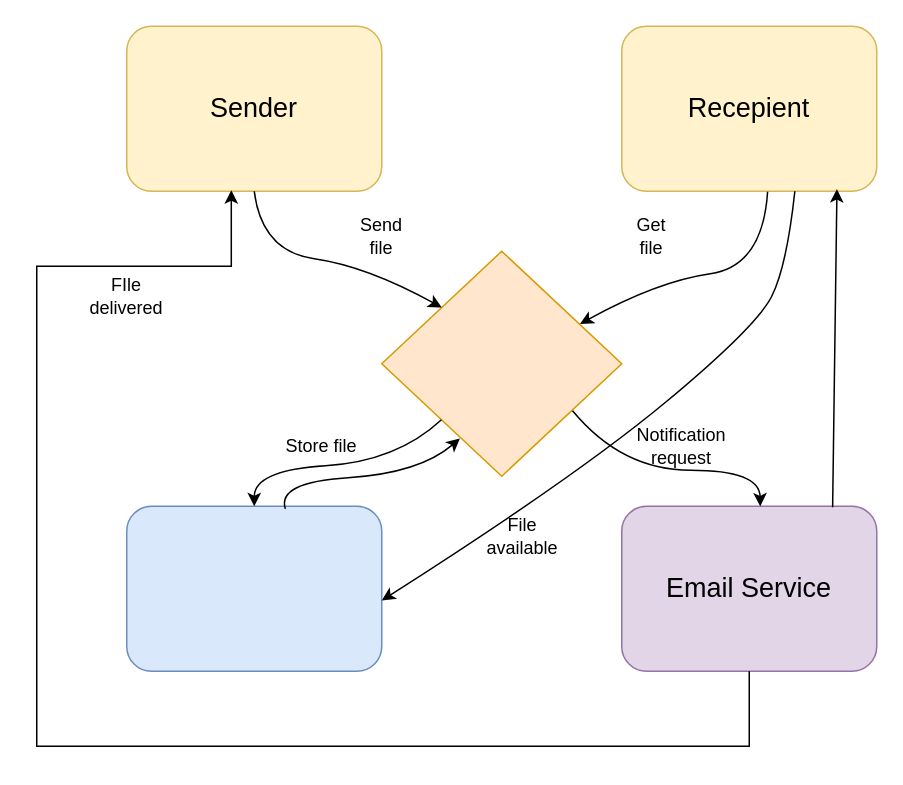
This 903x785 diagram has some shape labels left out. The centre of each missing label's shape, as x and y in pixels:
"Cloud(FileStorage)" goes at pixel 253 588.
"File Transfer Service" goes at pixel 501 363.
